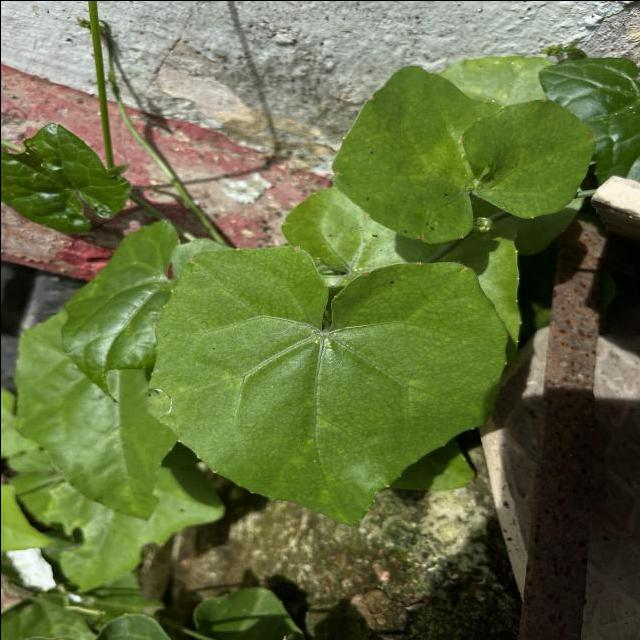Coccinia grandis: (142, 242, 510, 531)
